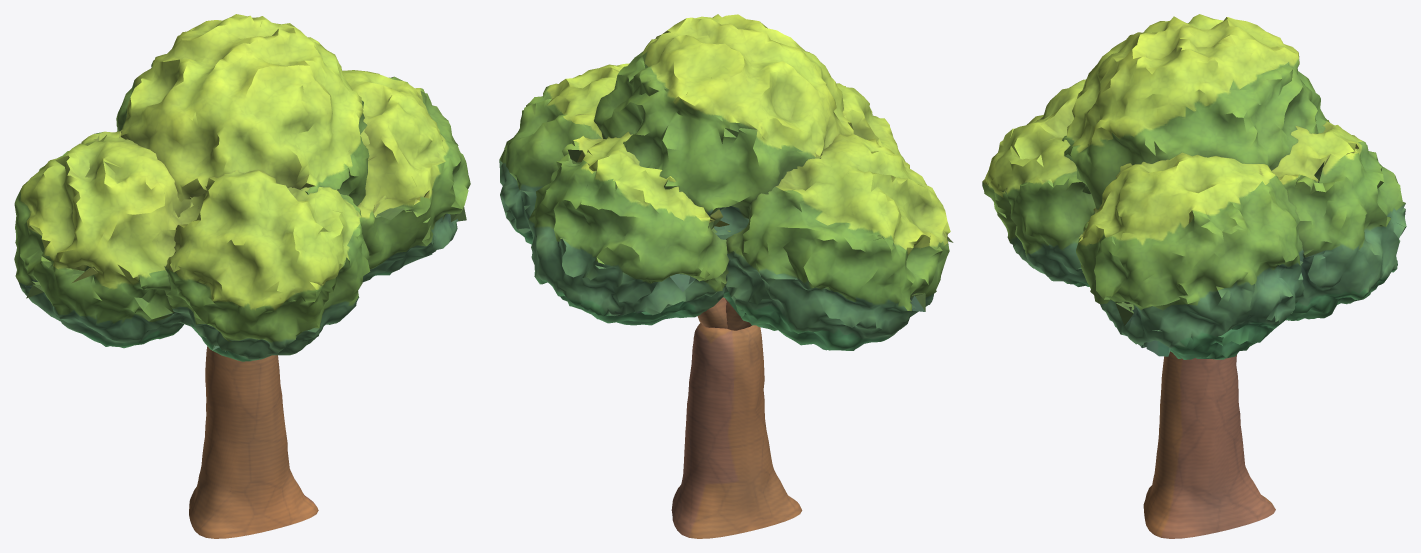
The model's file is V01_BroadleafOak.fbx.
The picture shows the model from 3 angles, left to right: view 1: azimuth 30°, elevation 25°; view 2: azimuth 150°, elevation 25°; view 3: azimuth 270°, elevation 25°; orthographic projection.
Visible parts, largest first — view 1: V01_BroadleafOak; view 2: V01_BroadleafOak; view 3: V01_BroadleafOak.
Part boxes in pixels (box(x1,y1,x2,y2)): V01_BroadleafOak: box(14, 14, 470, 538); V01_BroadleafOak: box(499, 14, 953, 538); V01_BroadleafOak: box(982, 14, 1406, 538).
Size of the model in its own units: 3.63 by 3.99 by 3.16.
